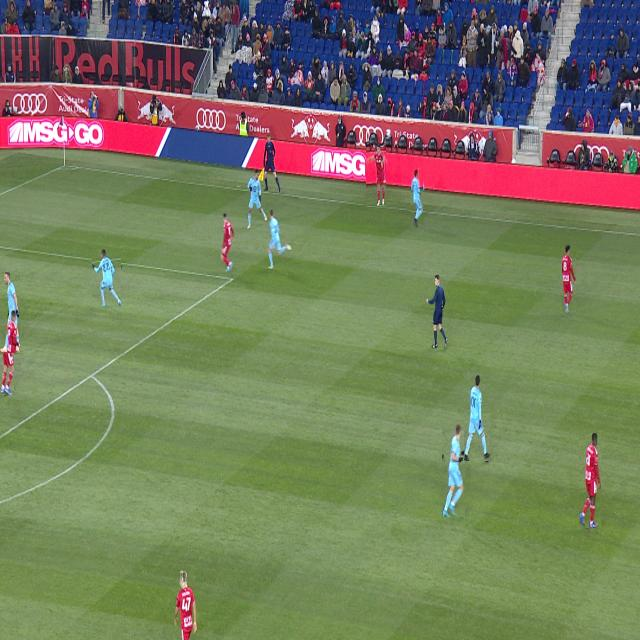football: (386, 129, 391, 137)
player: (464, 376, 490, 461), (443, 425, 465, 517), (580, 434, 601, 528), (0, 272, 20, 353), (174, 570, 197, 640), (93, 250, 121, 307), (268, 209, 292, 270), (247, 170, 267, 230), (367, 144, 386, 207), (0, 310, 14, 395), (562, 246, 576, 314), (222, 213, 234, 272), (412, 170, 423, 228), (0, 345, 4, 352), (571, 308, 573, 314)
referee: (426, 274, 448, 349)
